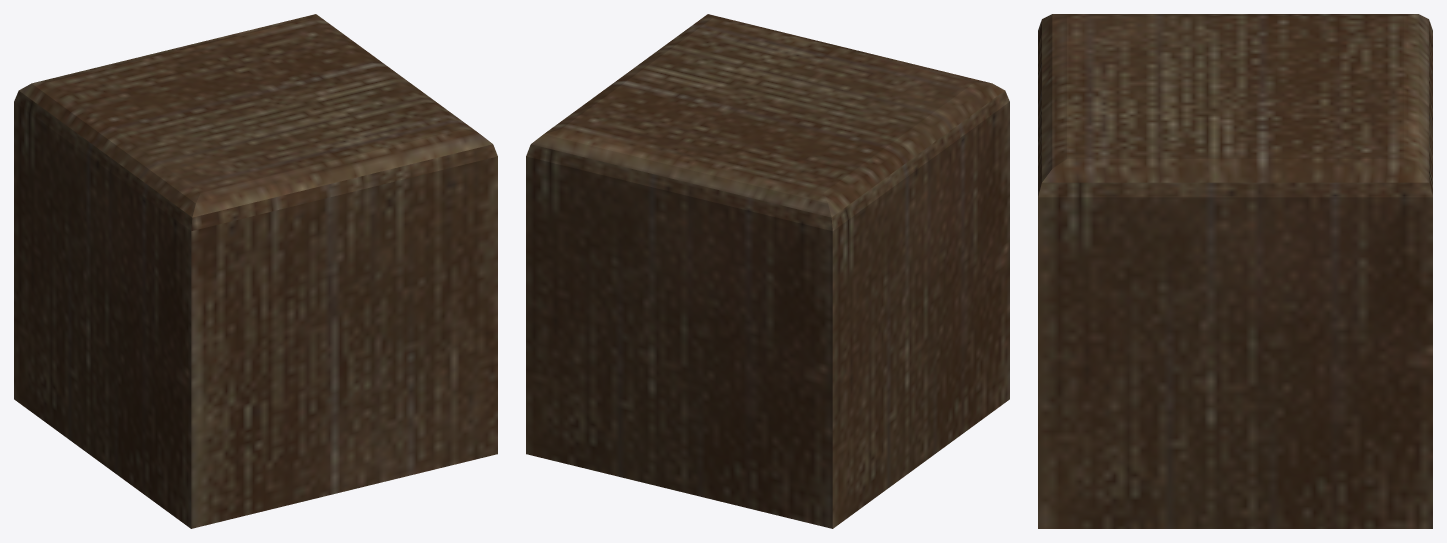
File: SM_TI_Wood_1_Block_1.fbx
The picture shows the model from 3 angles, left to right: view 1: azimuth 30°, elevation 25°; view 2: azimuth 150°, elevation 25°; view 3: azimuth 270°, elevation 25°; orthographic projection. The views are drawn at different scales.
Parts seen in each view (by area): view 1: SM_TI_Wood_1_Block_1; view 2: SM_TI_Wood_1_Block_1; view 3: SM_TI_Wood_1_Block_1.
Part boxes in pixels (x1=…): SM_TI_Wood_1_Block_1: x1=14, y1=14, x2=497, y2=528; SM_TI_Wood_1_Block_1: x1=526, y1=14, x2=1009, y2=528; SM_TI_Wood_1_Block_1: x1=1038, y1=14, x2=1432, y2=528.
Size of the model in its own units: 1 by 1 by 1.
